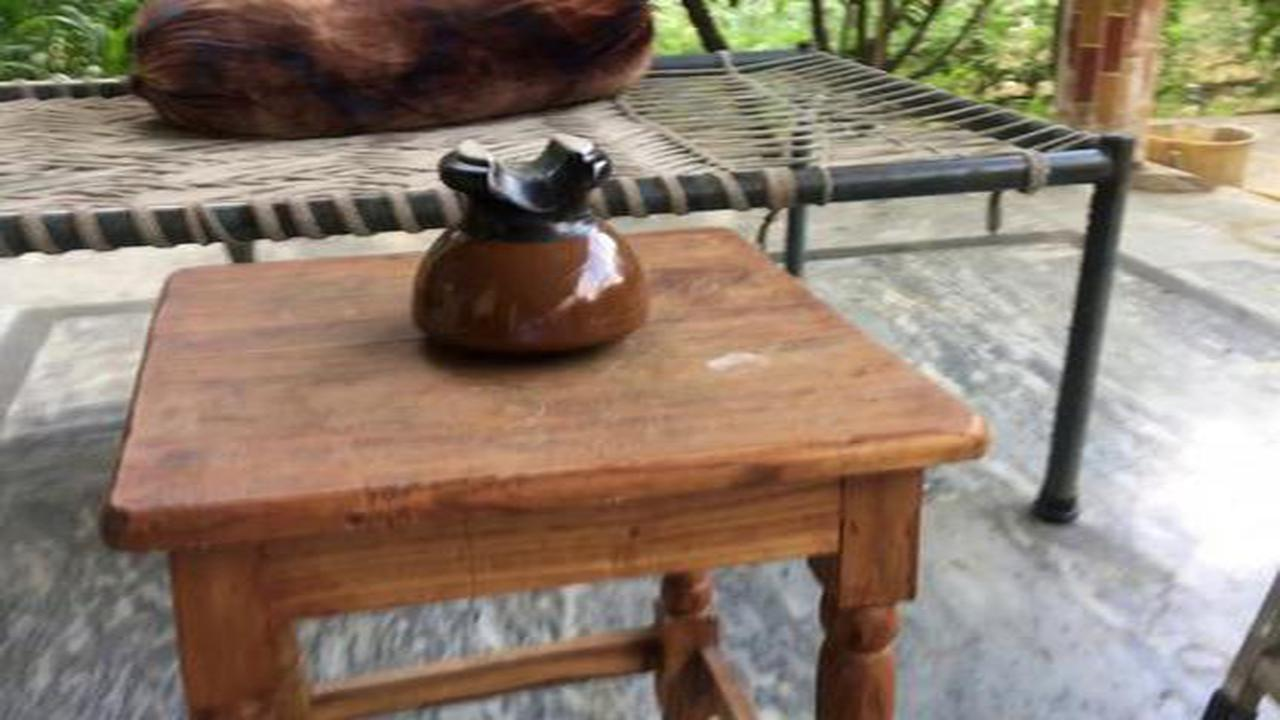insulator_pin: (391, 120, 671, 392)
